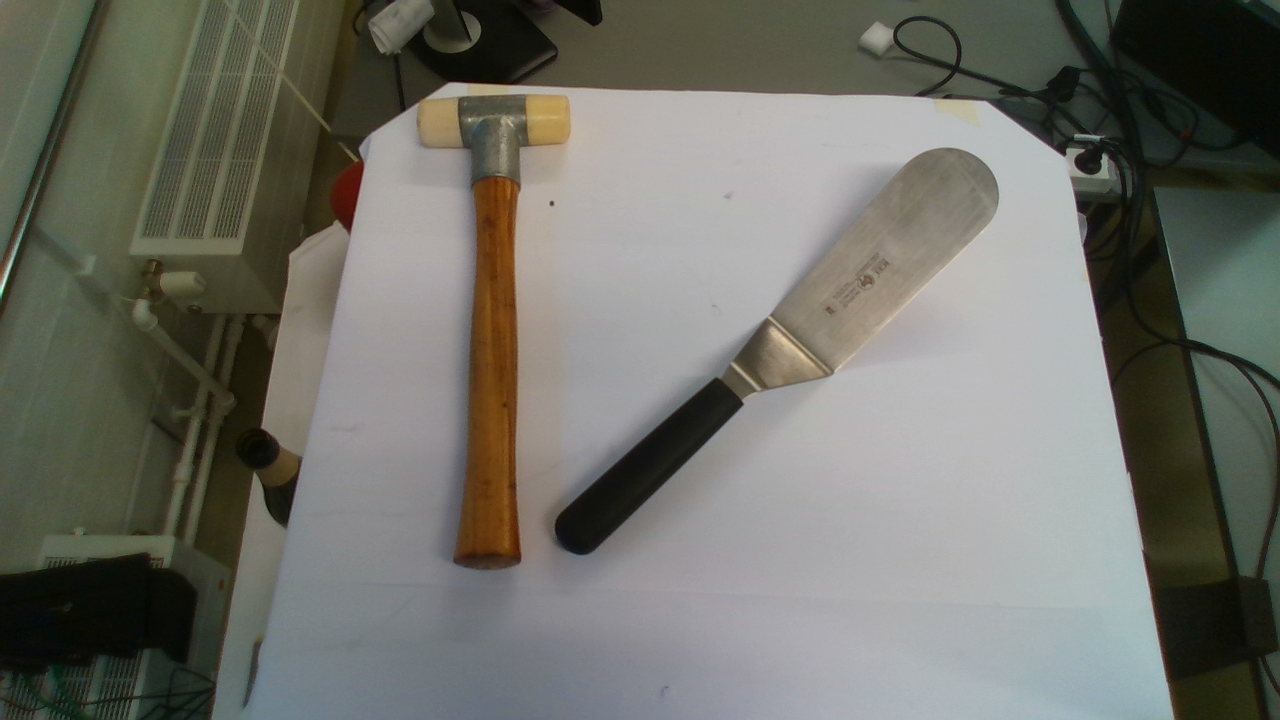hammer: (417, 91, 573, 570)
spatula: (555, 146, 1000, 556)
